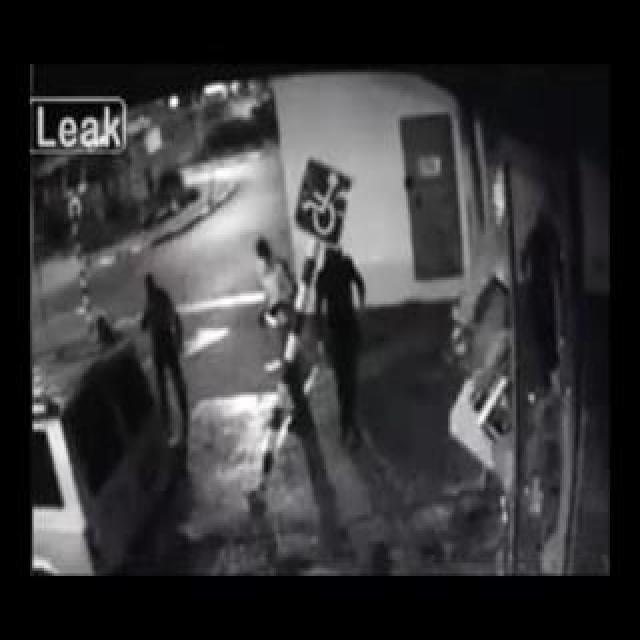thief: (244, 226, 359, 341), (128, 258, 198, 327)
